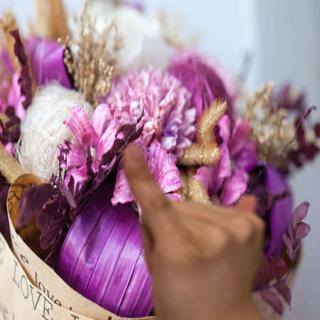HAVE: (106, 135, 273, 320)
